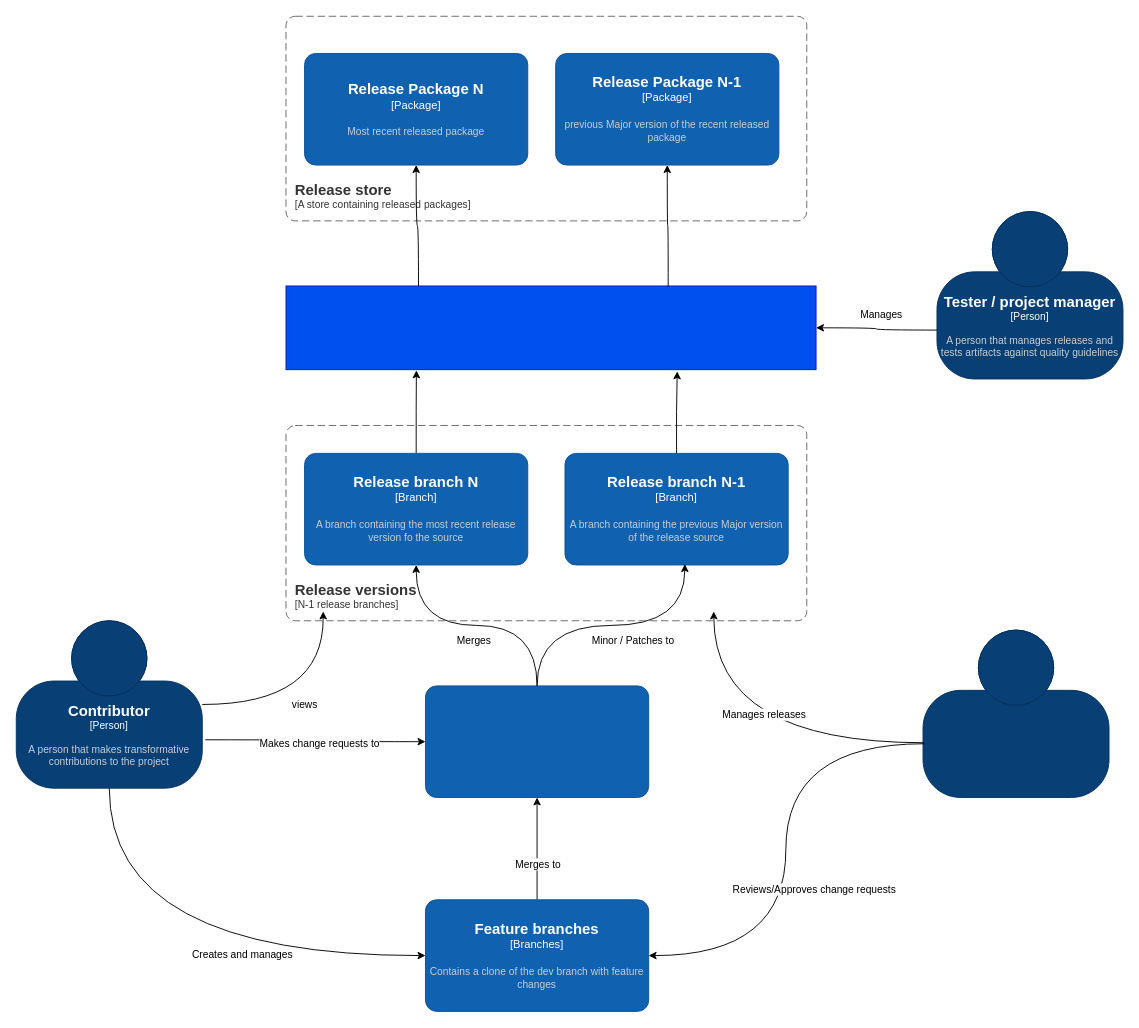
The diagram is 1139 pixels wide and 1028 high, and some of its shapes have lost their labels. Each missing label, with the centre of its shape:
Dev branch [Branch] Contains the most recent querated version of the source: the point at 537,741
Maintainer [Person] A person that manages the repository: the point at 1015,713
Quality Assurance: the point at 550,327
